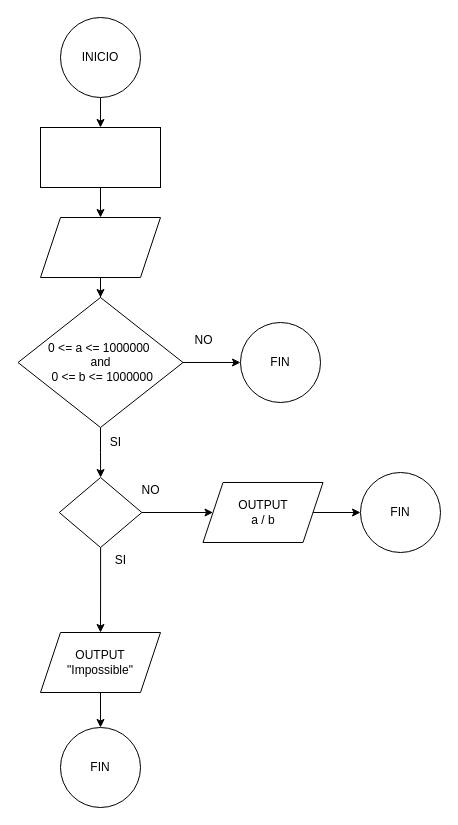
This 458x825 diagram has some shape labels left out. Here are the shapes that lost their labels. From the top down, the box of each, then its label:
(40, 126, 160, 188): Declarando a, b
(40, 216, 160, 278): INPUT a, b
(58, 476, 142, 548): b==0
